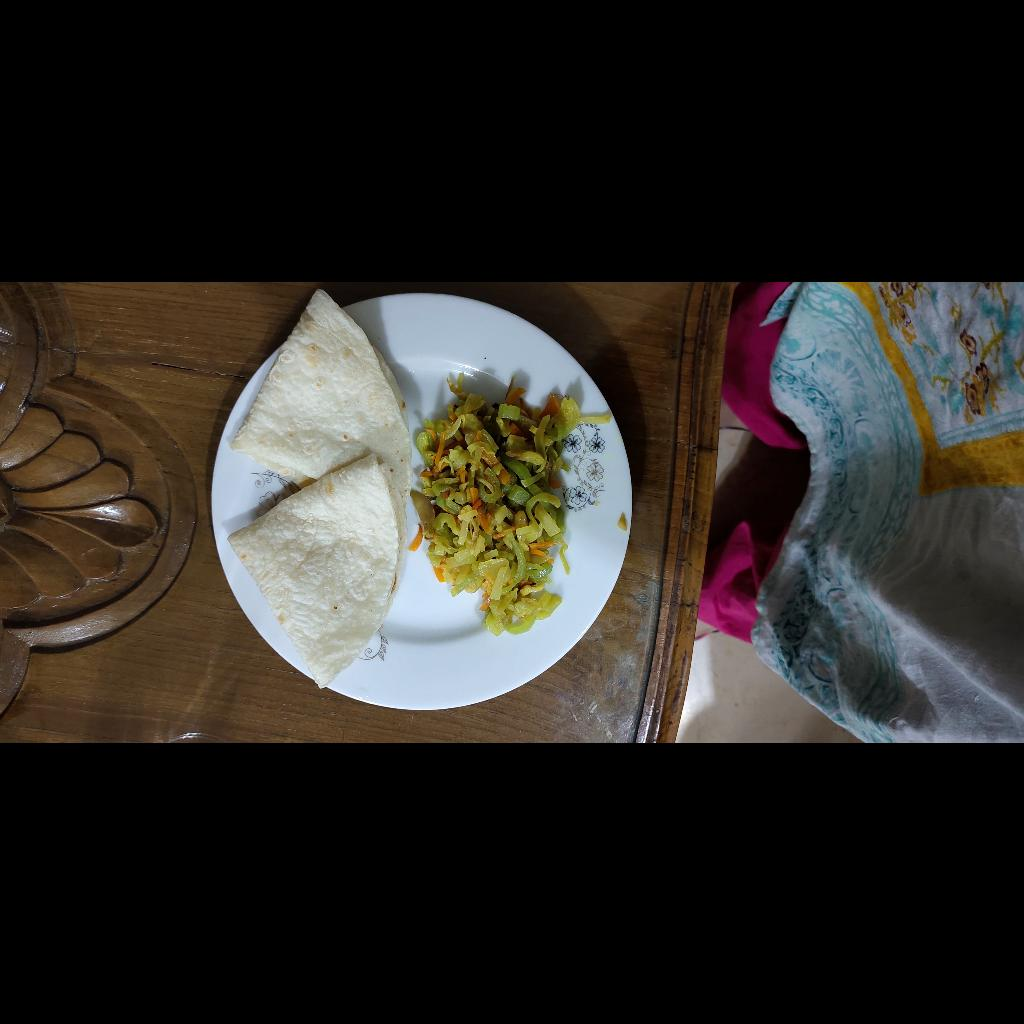ruti: (54, 507, 455, 693)
vegetable: (109, 690, 370, 895)
